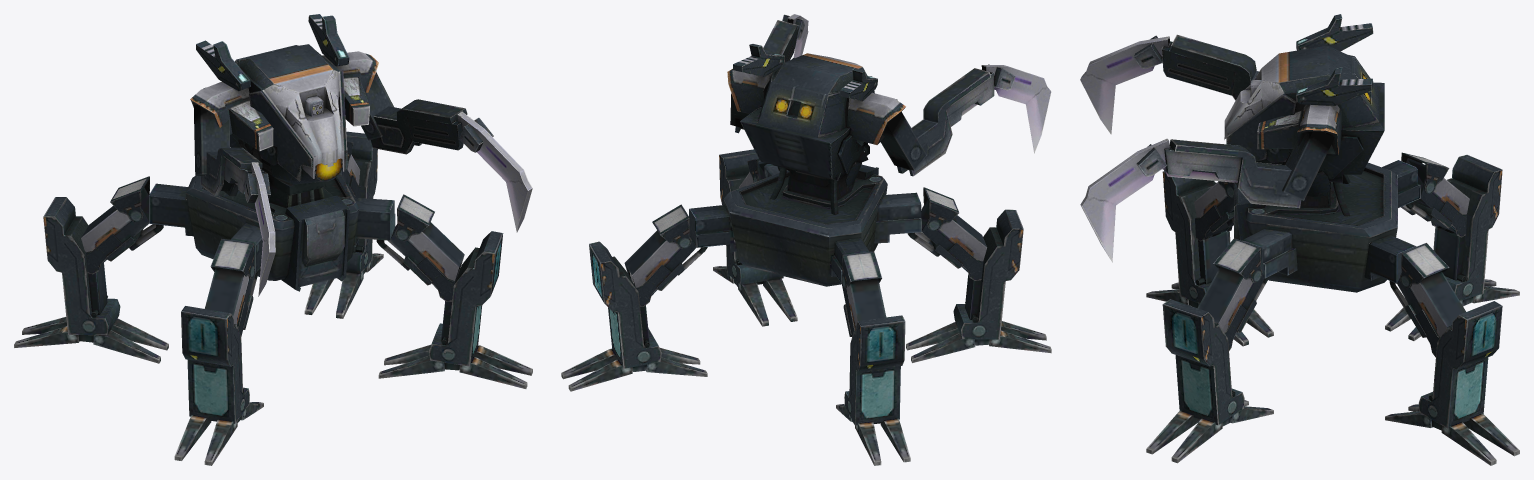
3 views of the same model, side by side, from view 1: azimuth 30°, elevation 25°; view 2: azimuth 150°, elevation 25°; view 3: azimuth 270°, elevation 25° (orthographic). The views are drawn at different scales.
Visible parts, largest first — view 1: 20_10; view 2: 20_10; view 3: 20_10.
Part boxes in pixels (left/top/right/bottom): 20_10: left=14, top=14, right=532, bottom=465; 20_10: left=561, top=14, right=1051, bottom=465; 20_10: left=1080, top=14, right=1519, bottom=465.
Bounding box in the file's own units: 301 × 256 × 307.
